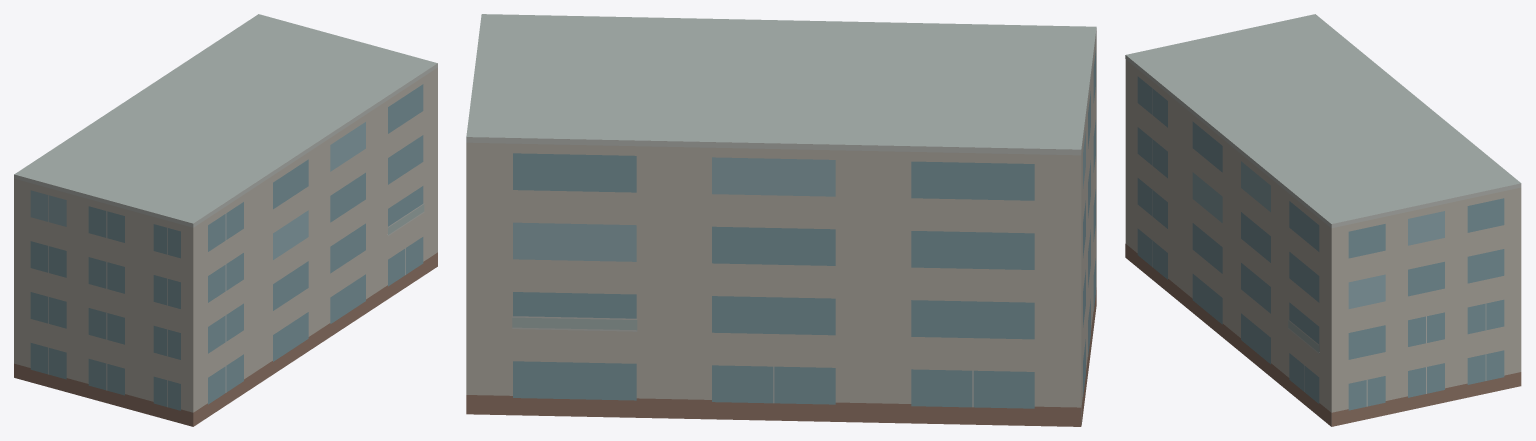
The model's file is survey-upis-32837289.glb.
3 views of the same model, side by side, from view 1: azimuth 30°, elevation 25°; view 2: azimuth 150°, elevation 25°; view 3: azimuth 270°, elevation 25° (orthographic). The views are drawn at different scales.
Visible parts, largest first — view 1: survey-upis-32837289.tmp; view 2: survey-upis-32837289.tmp; view 3: survey-upis-32837289.tmp.
Boxes of the visible parts, x1,y1,x2,y2 form: survey-upis-32837289.tmp: [14, 14, 437, 426]; survey-upis-32837289.tmp: [466, 14, 1096, 426]; survey-upis-32837289.tmp: [1125, 14, 1521, 426].
Size of the model in its own units: 26.46 by 11.9 by 21.06.
